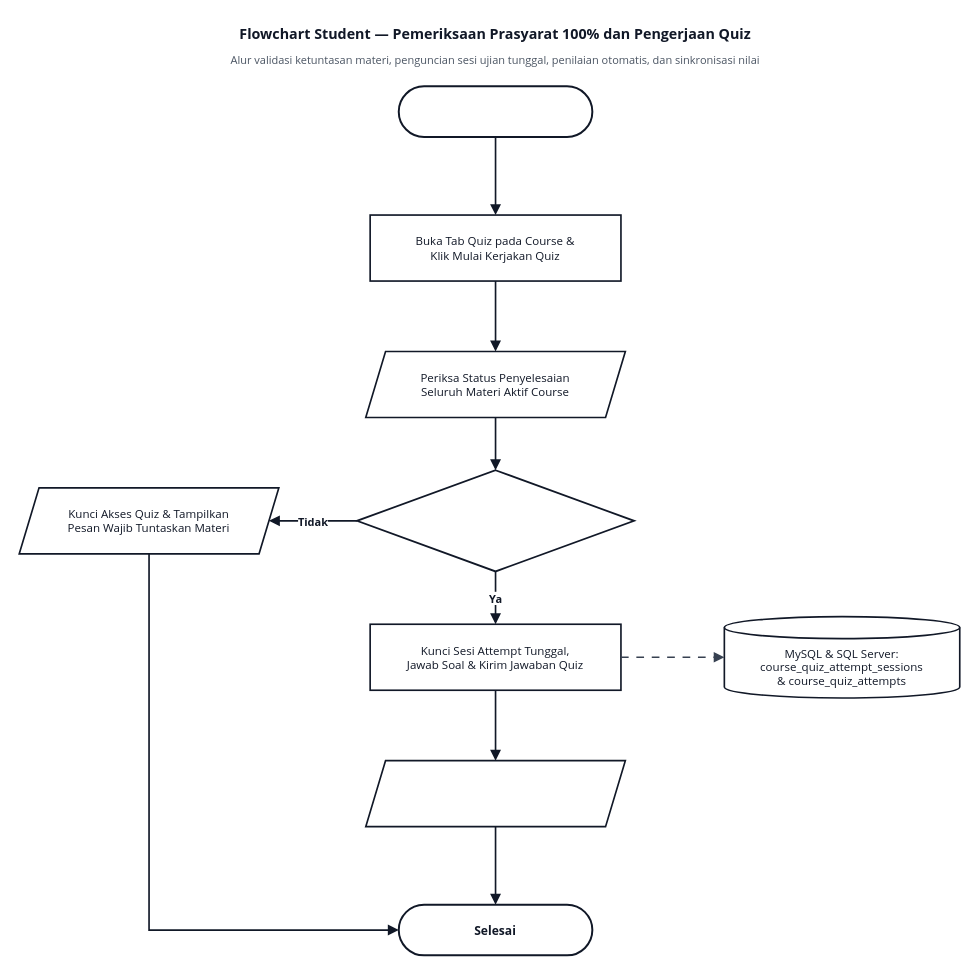
This 980x975 diagram has some shape labels left out. The centre of each missing label's shape, as x and y in pixels:
Hitung Skor Otomatis, Sinkronkan Nilai & Tampilkan Hasil Evaluasi: the point at 495,793
Mulai: the point at 495,111
Seluruh Materi Aktif Sudah 100% Selesai?: the point at 495,520
